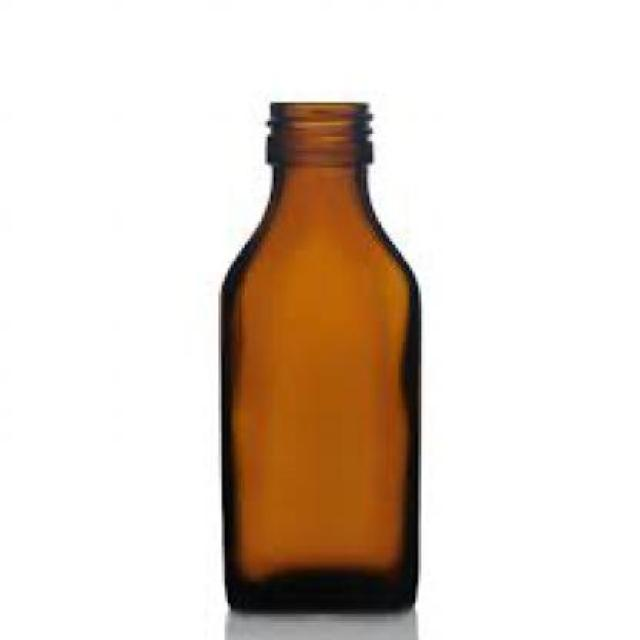kaca: (215, 100, 418, 612)
